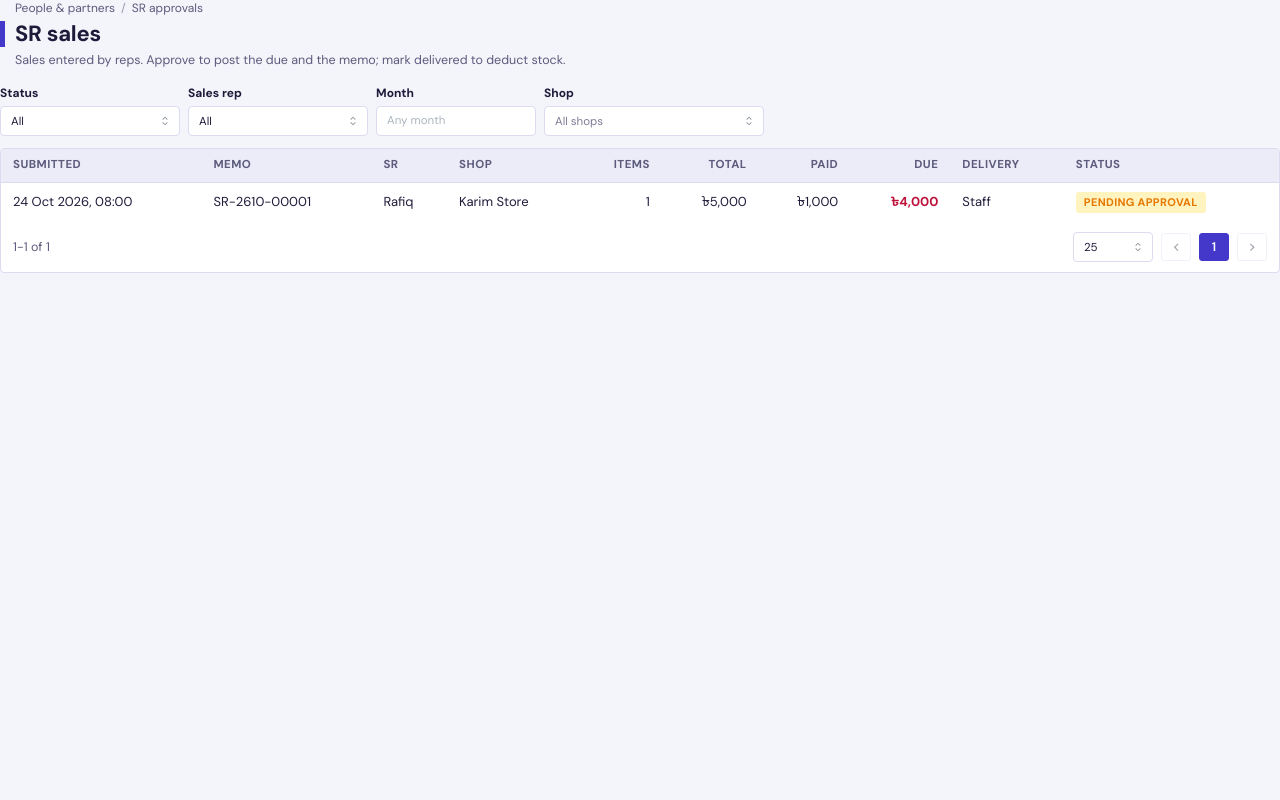
Test: SalesPage › shows items and totals in the drawer
Click the text "SR-2610-00001".
click(286, 202)  # box [201,182,371,222]
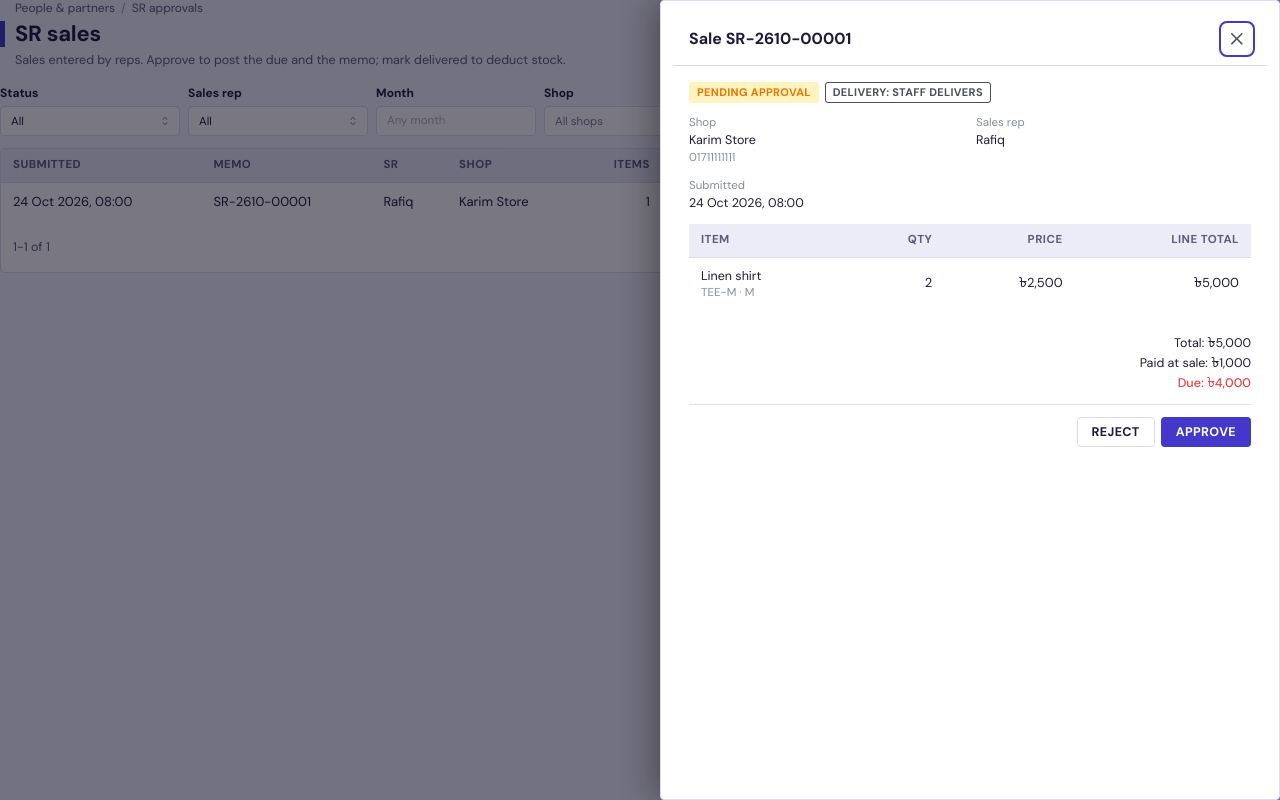
Result: the text "Linen shirt" is shown at [701,268,761,284]
Result: the text "Paid at sale: ৳1,000" is shown at [1140,354,1251,372]
Result: the text "Due: ৳4,000" is shown at [1178,374,1251,392]
